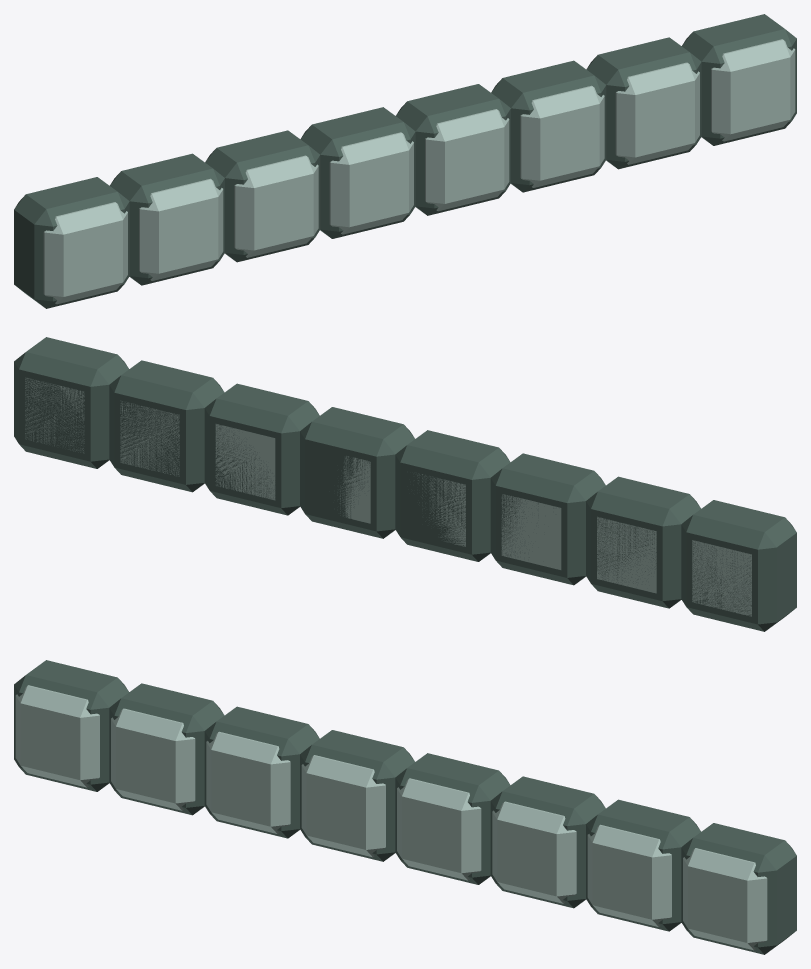
File: Terrain_Block8x1.gltf
3 renders of one model, top to bottom at view 1: azimuth 30°, elevation 25°; view 2: azimuth 150°, elevation 25°; view 3: azimuth 330°, elevation 25°, orthographic.
Parts seen in each view (by area): view 1: Terrain_Block8x1_baked; view 2: Terrain_Block8x1_baked; view 3: Terrain_Block8x1_baked.
Boxes of the visible parts, x1,y1,x2,y2 form: Terrain_Block8x1_baked: (14, 14, 796, 308); Terrain_Block8x1_baked: (14, 337, 796, 631); Terrain_Block8x1_baked: (14, 660, 796, 954).
Size of the model in its own units: 8 by 1 by 0.7.
